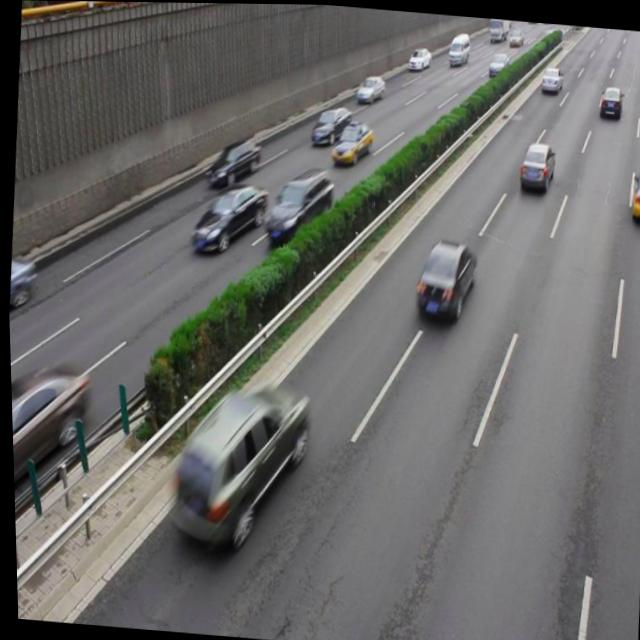car: (162, 374, 311, 561), (8, 357, 91, 494), (187, 178, 267, 258), (260, 162, 334, 245), (409, 233, 476, 323), (203, 132, 261, 194), (328, 116, 373, 168), (515, 138, 553, 193), (308, 101, 351, 148), (6, 254, 35, 315), (626, 164, 640, 219)
